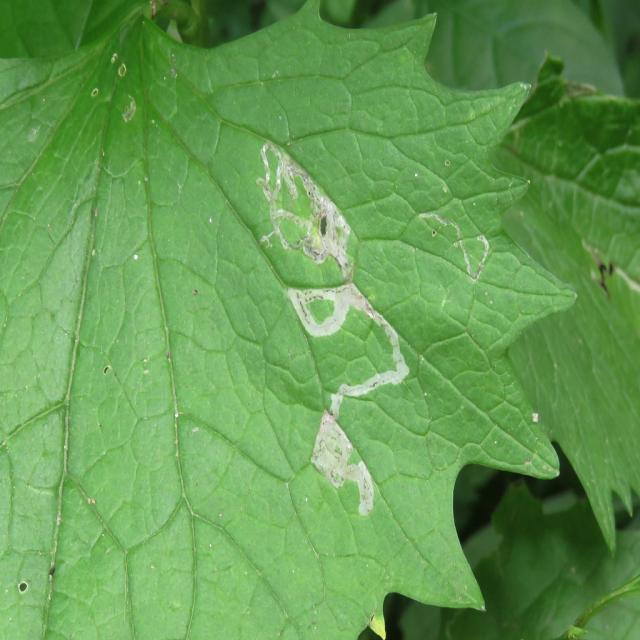Serpentine leafminer: (250, 132, 412, 525)
